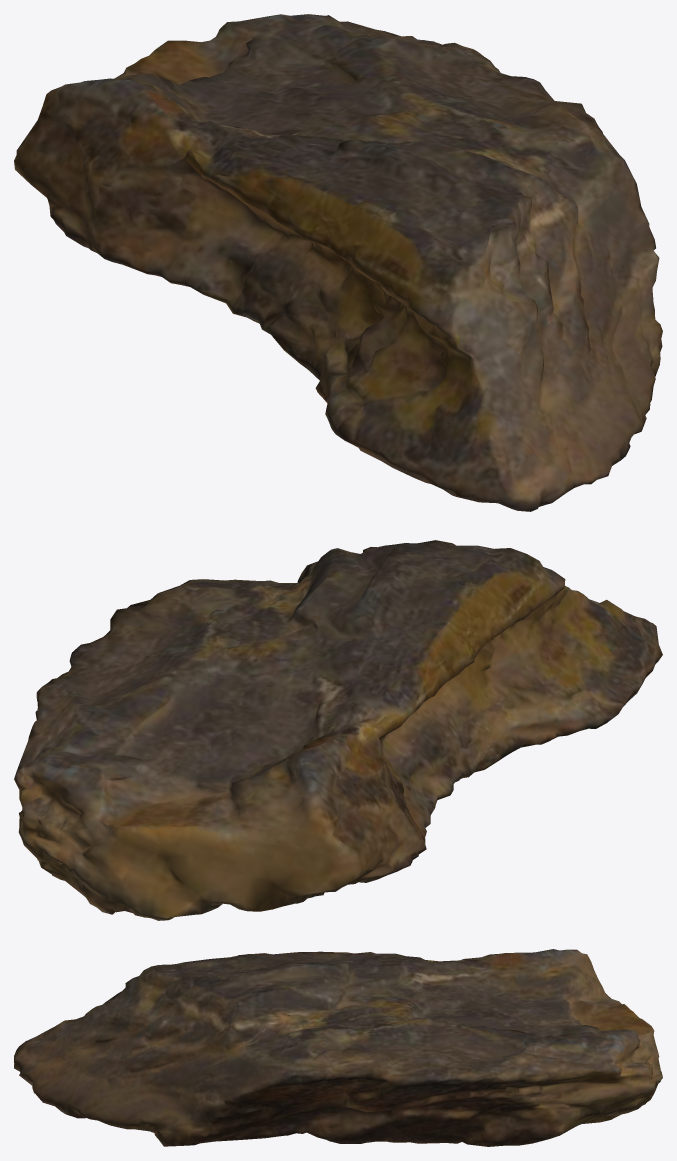
File: river.glb
3 views of the same model, one above another, from view 1: azimuth 30°, elevation 25°; view 2: azimuth 150°, elevation 25°; view 3: azimuth 270°, elevation 25° (orthographic). The views are drawn at different scales.
Visible parts, largest first — view 1: rock_09_LOD0; view 2: rock_09_LOD0; view 3: rock_09_LOD0.
Boxes of the visible parts, x1,y1,x2,y2 form: rock_09_LOD0: (14,14,662,511); rock_09_LOD0: (14,540,662,920); rock_09_LOD0: (14,949,662,1146).
Bounding box in the file's own units: 0.074 × 0.0329 × 0.1446.
Materials: 1 (1 with a texture image).
